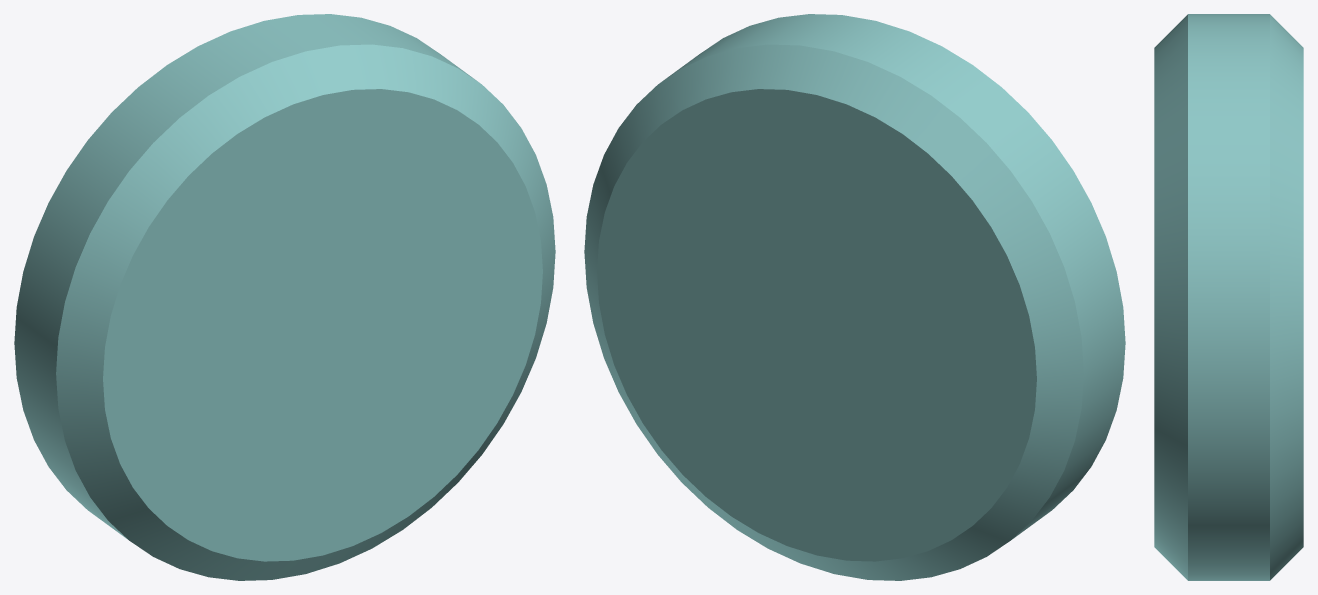
File: 20140311GOPHDRGPT00555.fbx
The picture shows the model from 3 angles, left to right: view 1: azimuth 30°, elevation 25°; view 2: azimuth 150°, elevation 25°; view 3: azimuth 270°, elevation 25°; orthographic projection.
Parts seen in each view (by area): view 1: BezierCircle; view 2: BezierCircle; view 3: BezierCircle.
Part boxes in pixels (left/top/right/bottom): BezierCircle: left=14, top=14, right=555, bottom=580; BezierCircle: left=584, top=14, right=1125, bottom=580; BezierCircle: left=1154, top=14, right=1303, bottom=580.
Bounding box in the file's own units: 0.7511 × 0.7511 × 0.1978.
